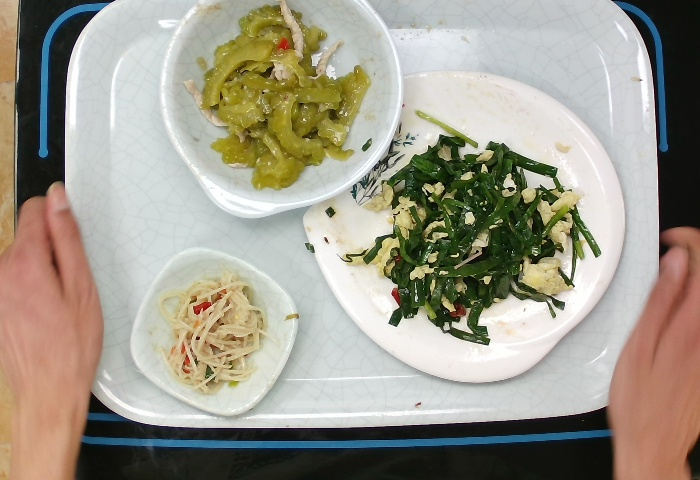JYsf-Mian_Pan: (300, 65, 627, 383)
JYsf-Shuang_Er_Wan: (155, 1, 408, 223)
JYsf-Si_Fang_Die: (121, 243, 304, 422)
